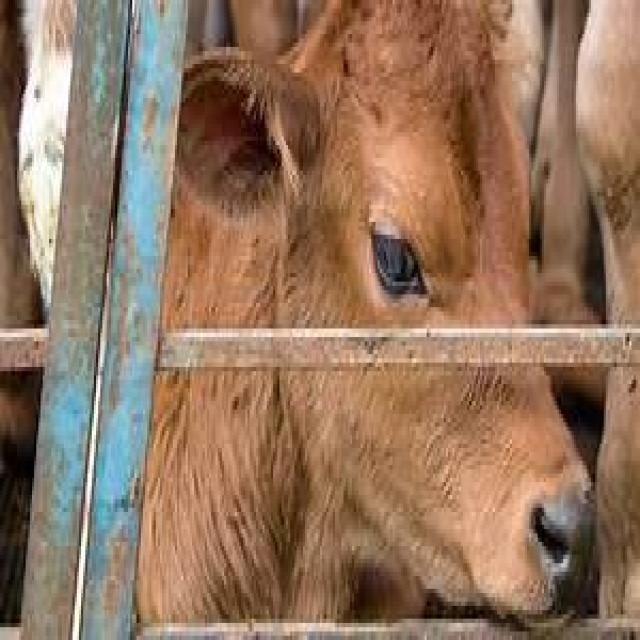animal: (175, 0, 612, 619)
